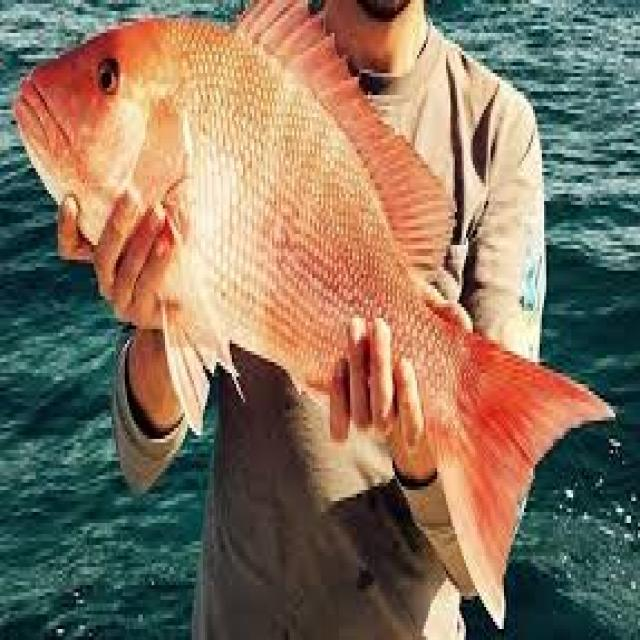northern-red-snapper: (18, 10, 620, 638)
